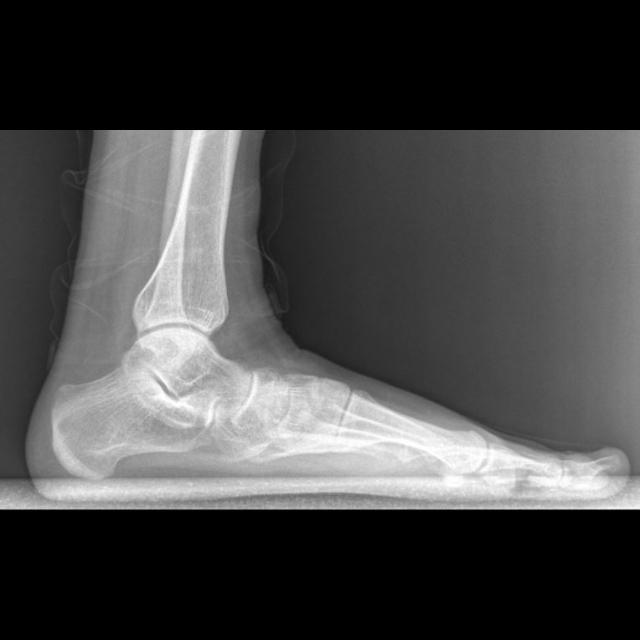a: (50, 349, 217, 480)
b: (232, 369, 290, 443)
c: (333, 390, 488, 473)
